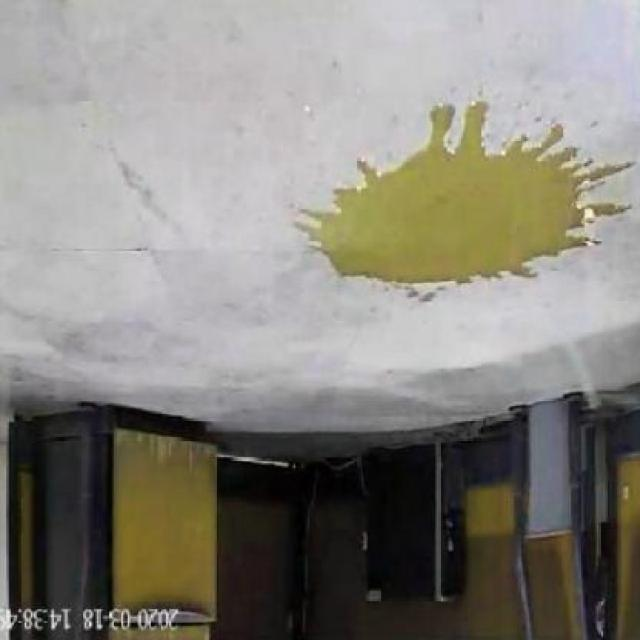spillage: (295, 97, 618, 283)
